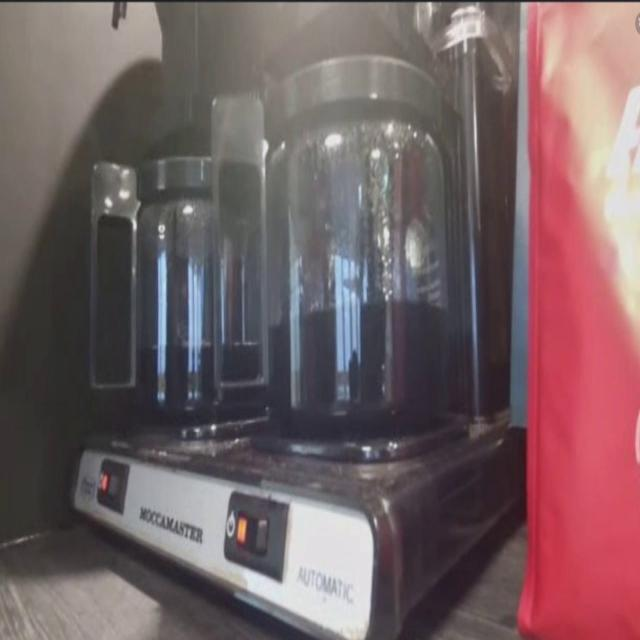coffee: (243, 36, 464, 471), (122, 143, 260, 423)
